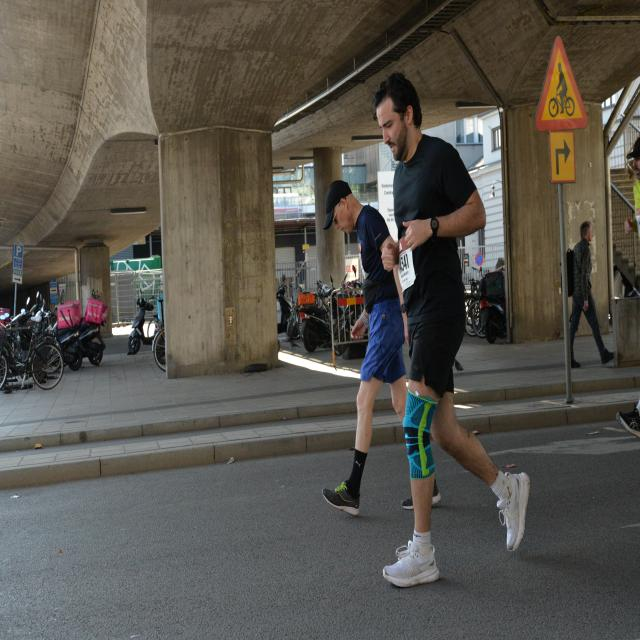runner-detect: (368, 73, 548, 596), (315, 161, 430, 520)
